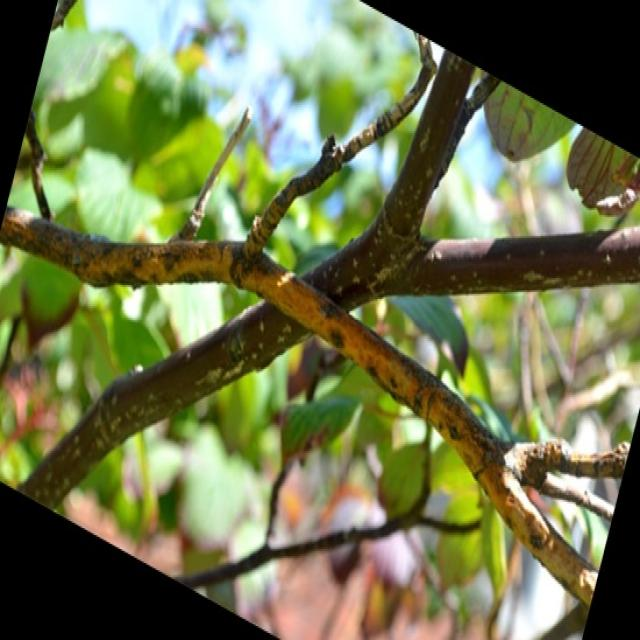Golden_canker: (0, 86, 634, 605)
